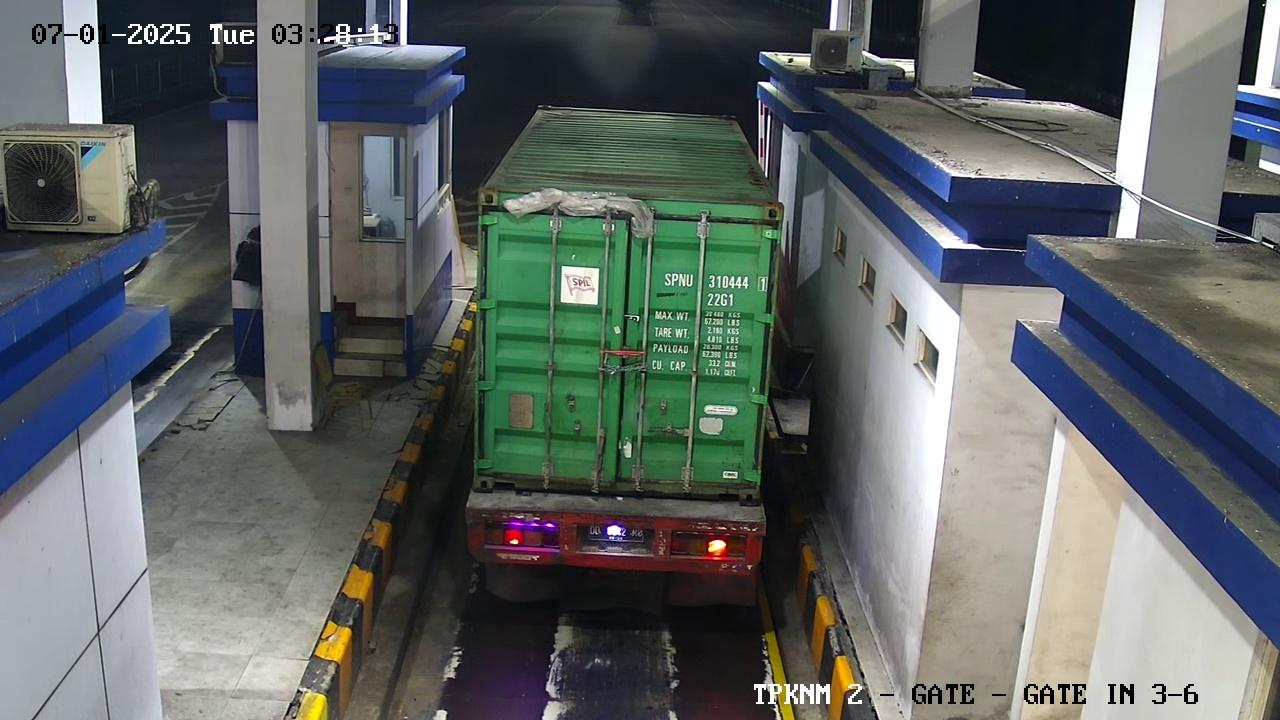Container_ID: (643, 258, 783, 309)
plate_number: (581, 518, 655, 546)
